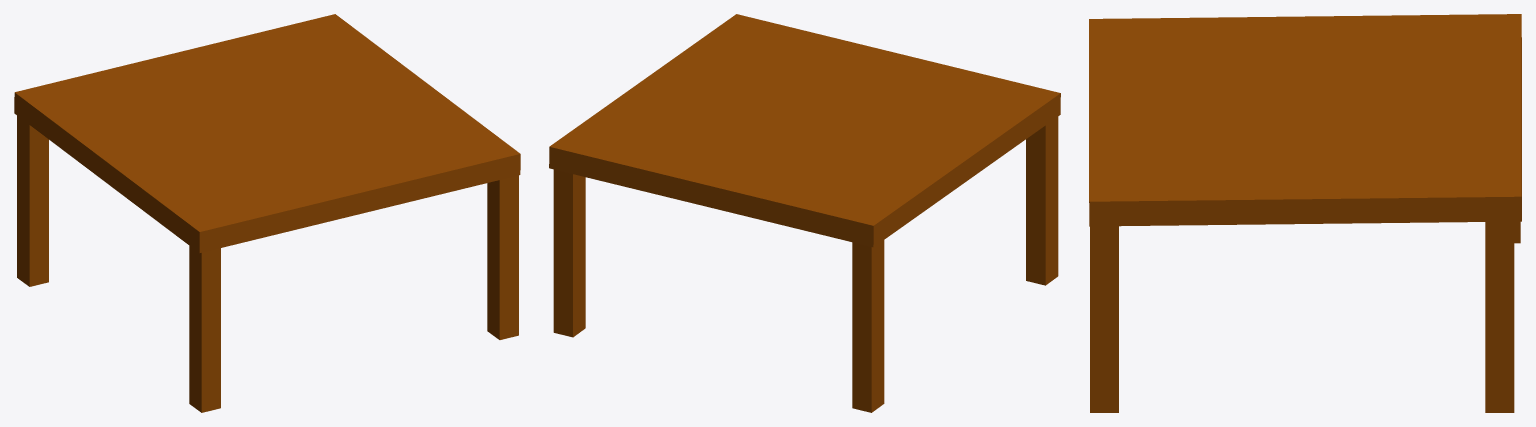
File: mesa.gltf
The picture shows the model from 3 angles, left to right: view 1: azimuth 30°, elevation 25°; view 2: azimuth 150°, elevation 25°; view 3: azimuth 270°, elevation 25°; orthographic projection. The views are drawn at different scales.
Parts seen in each view (by area): view 1: Cube.004, Cube.003, Cube.005, Cube.002; view 2: Cube.004, Cube.002, Cube.001, Cube.003; view 3: Cube.004, Cube.001, Cube.005.
Boxes of the visible parts, x1,y1,x2,y2 form: Cube.004: (14, 14, 520, 253); Cube.003: (189, 246, 220, 412); Cube.005: (487, 175, 518, 339); Cube.002: (17, 115, 48, 286); Cube.004: (549, 14, 1060, 247); Cube.002: (852, 240, 884, 412); Cube.001: (553, 169, 585, 337); Cube.003: (1026, 117, 1058, 285); Cube.004: (1089, 14, 1521, 226); Cube.001: (1485, 221, 1514, 412); Cube.005: (1090, 226, 1118, 412).
Bounding box in the file's own units: 4.95 × 2.74 × 4.95.
